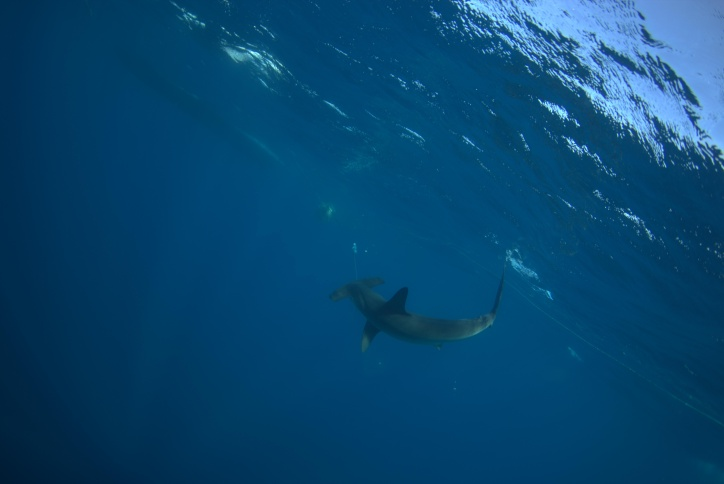Hammer: (296, 249, 538, 373)
